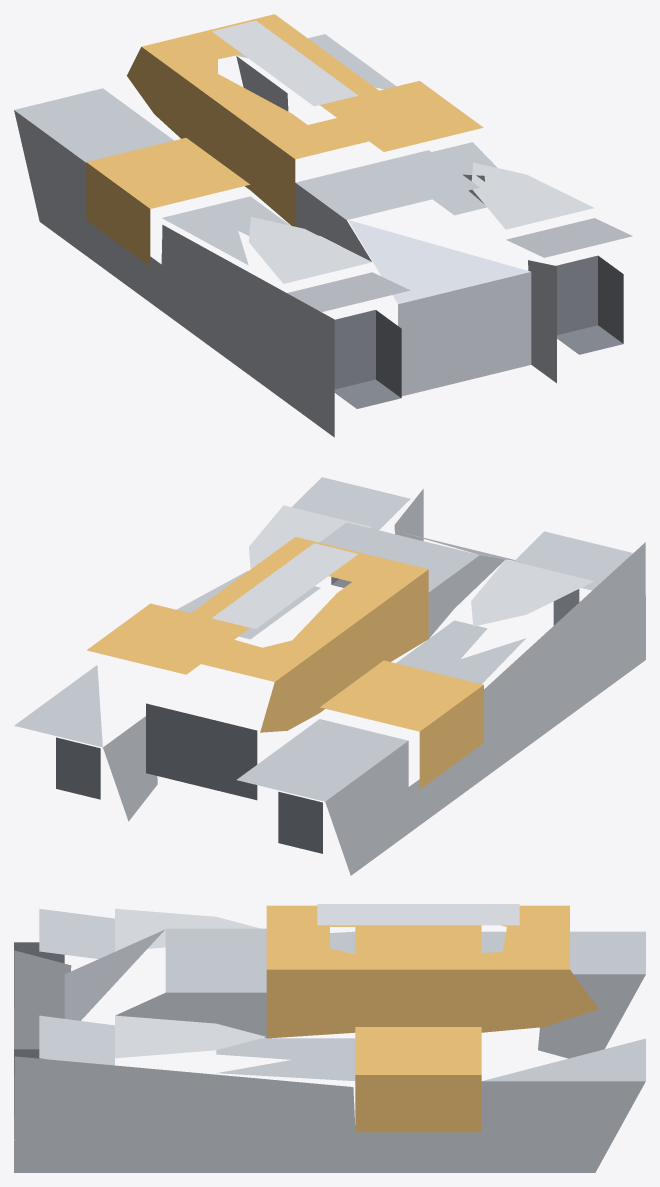
Rendered from craft_cargoB_lod1.glb.
The picture shows the model from 3 angles, top to bottom: view 1: azimuth 30°, elevation 25°; view 2: azimuth 150°, elevation 25°; view 3: azimuth 270°, elevation 25°; orthographic projection.
Visible parts, largest first — view 1: craft_cargoB.001; view 2: craft_cargoB.001; view 3: craft_cargoB.001.
Boxes of the visible parts, x1,y1,x2,y2 form: craft_cargoB.001: (14,14,632,437); craft_cargoB.001: (14,477,645,875); craft_cargoB.001: (14,904,645,1172).
Bounding box in the file's own units: 1.5 × 0.9 × 2.5.
